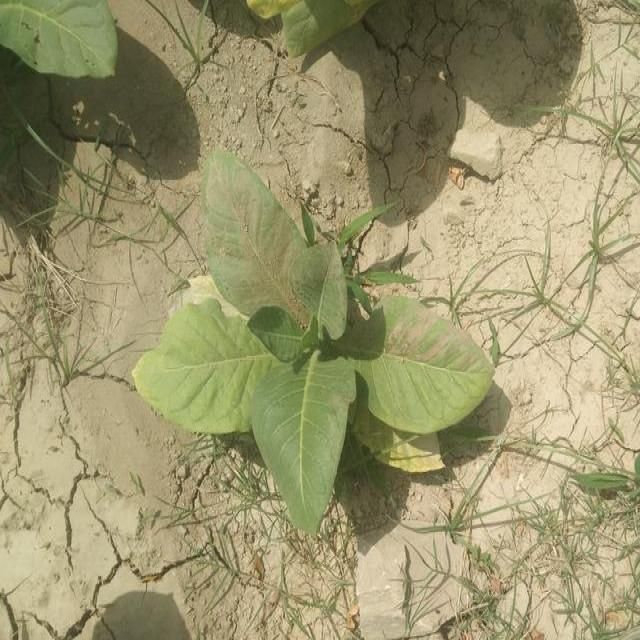crop: (132, 153, 491, 534), (0, 0, 123, 78)
